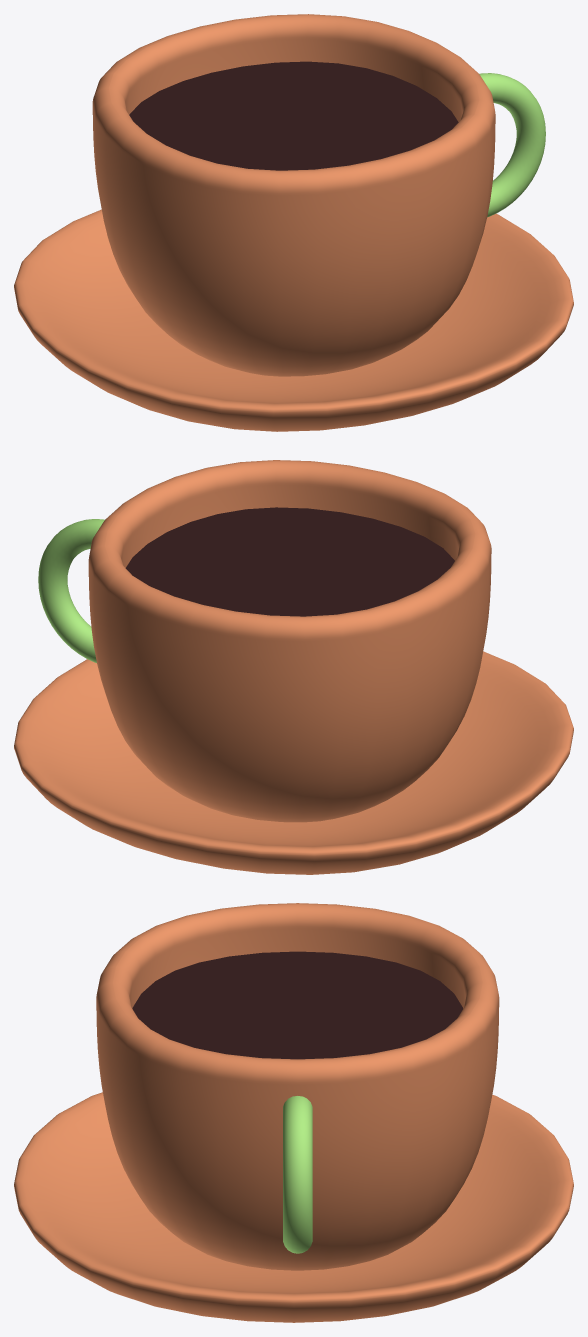
The model's file is coffee_cupsaucer_free_3d_model.glb.
3 views of the same model, one above another, from view 1: azimuth 30°, elevation 25°; view 2: azimuth 150°, elevation 25°; view 3: azimuth 270°, elevation 25° (orthographic). The views are drawn at different scales.
Parts seen in each view (by area): view 1: Cube_0, Cube.002_3, object 3, object 2; view 2: Cube_0, Cube.002_3, object 3, object 2; view 3: Cube_0, Cube.002_3, object 3, object 2.
Boxes of the visible parts, x1,y1,x2,y2 form: Cube_0: (92,14,495,376); Cube.002_3: (14,209,573,431); object 3: (129,61,458,170); object 2: (479,73,545,217); Cube_0: (88,460,491,822); Cube.002_3: (14,651,573,874); object 3: (125,507,454,616); object 2: (38,519,104,662); Cube_0: (96,903,499,1270); Cube.002_3: (14,1092,573,1322); object 3: (132,951,462,1059); object 2: (283,1096,312,1253).
Size of the model in its own units: 2.63 by 1.39 by 2.55.
